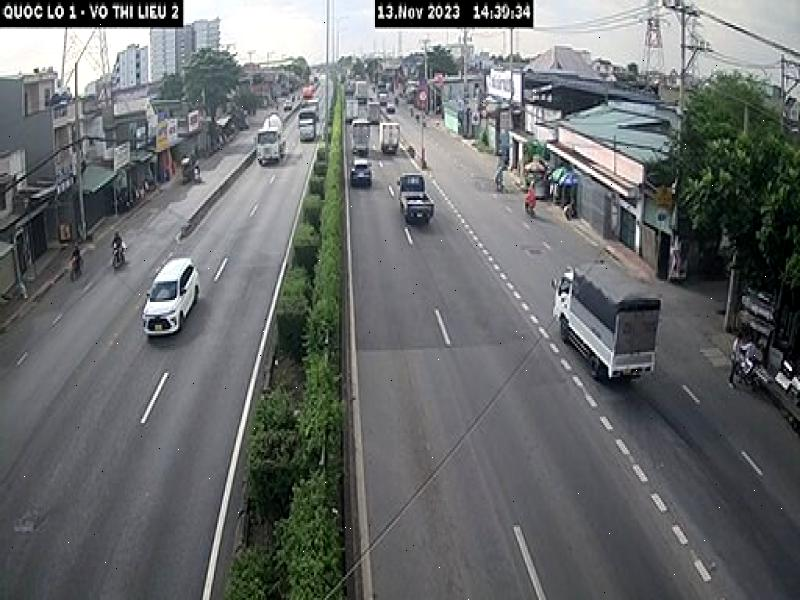truck: (548, 259, 663, 392)
